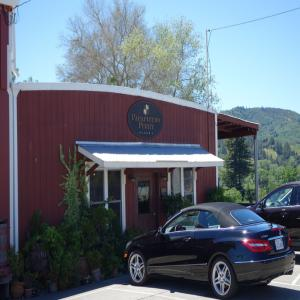Vehicle-registration-plate: (276, 239, 285, 251)
